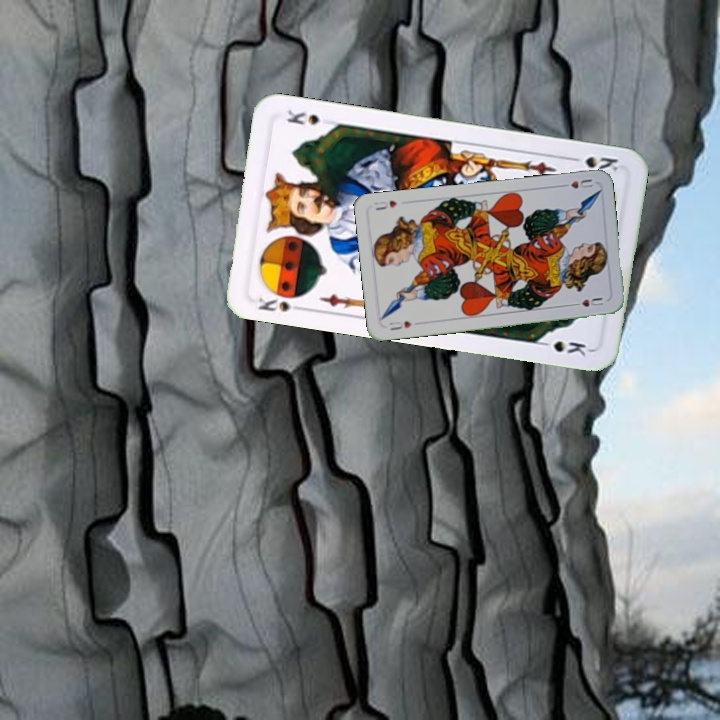HU: (556, 175, 595, 191), (385, 317, 414, 333)
SK: (564, 152, 621, 174), (254, 293, 308, 315)
